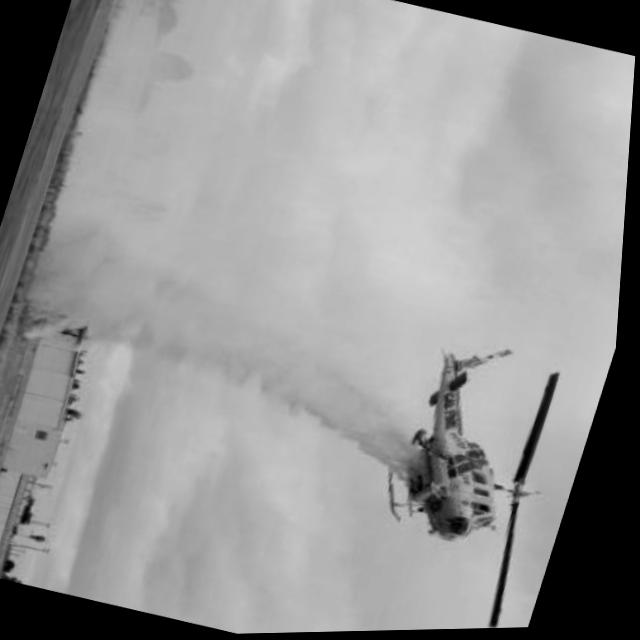helikopter: (352, 319, 600, 633)
